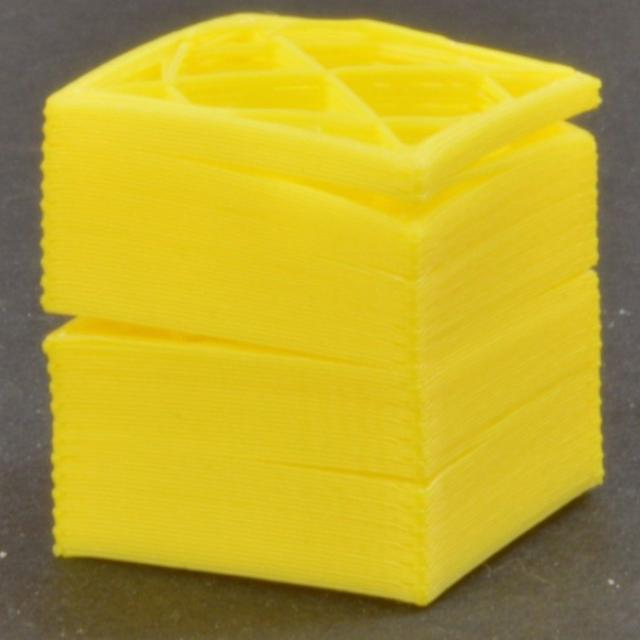Warping: (264, 139, 523, 250), (41, 289, 376, 374), (264, 431, 488, 502), (515, 84, 600, 165), (536, 252, 601, 306)
